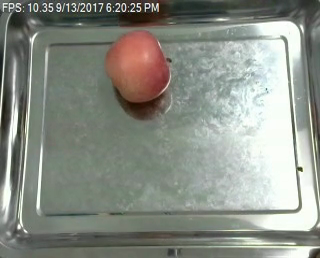Apple: (103, 28, 171, 108)
